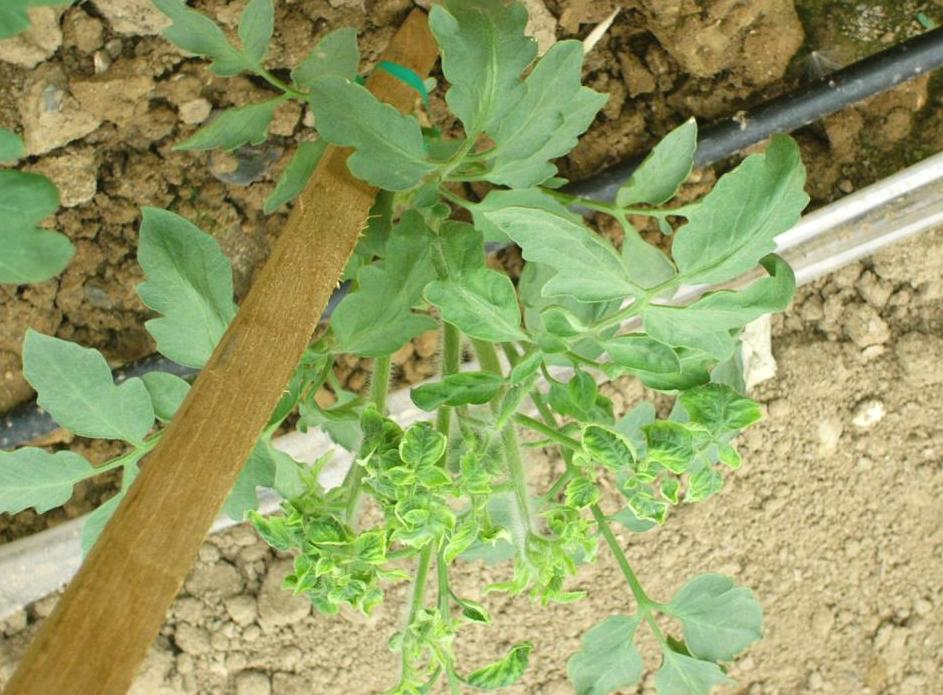Tomato leaf: (673, 123, 804, 288), (500, 212, 669, 325), (322, 222, 444, 369), (129, 211, 231, 373), (425, 0, 538, 143), (19, 327, 143, 452), (306, 70, 430, 193), (485, 40, 599, 163), (0, 429, 104, 534), (664, 568, 766, 664), (566, 596, 660, 695), (613, 120, 701, 214), (171, 97, 291, 161), (594, 329, 682, 379)
